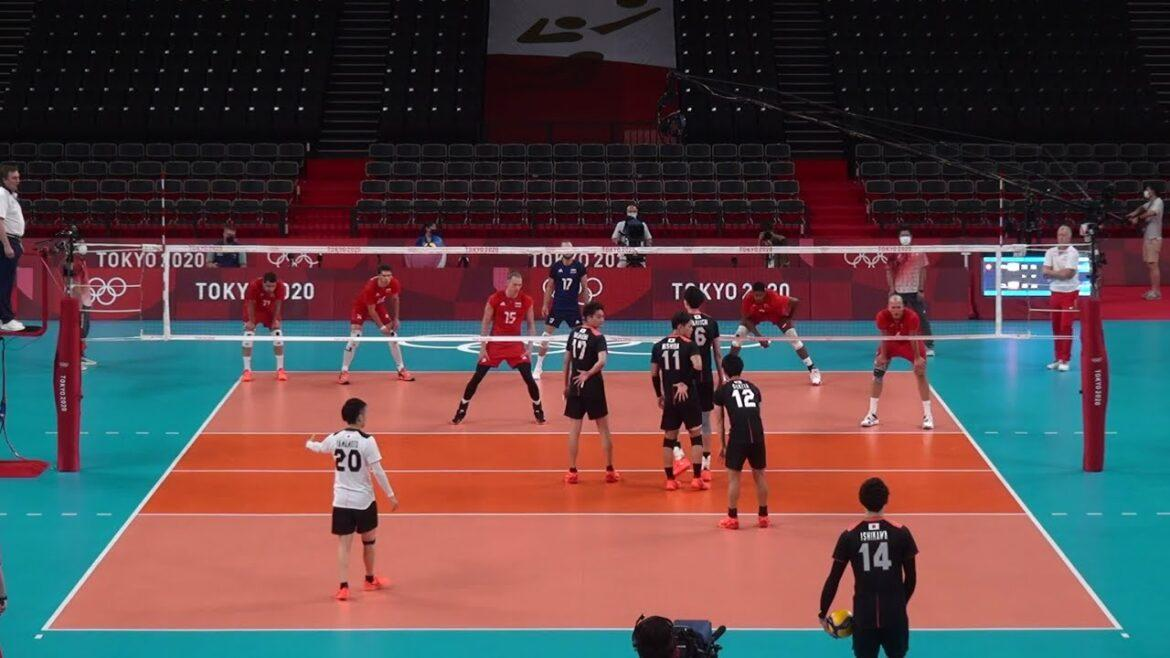ballon_volley: (826, 608, 854, 639)
